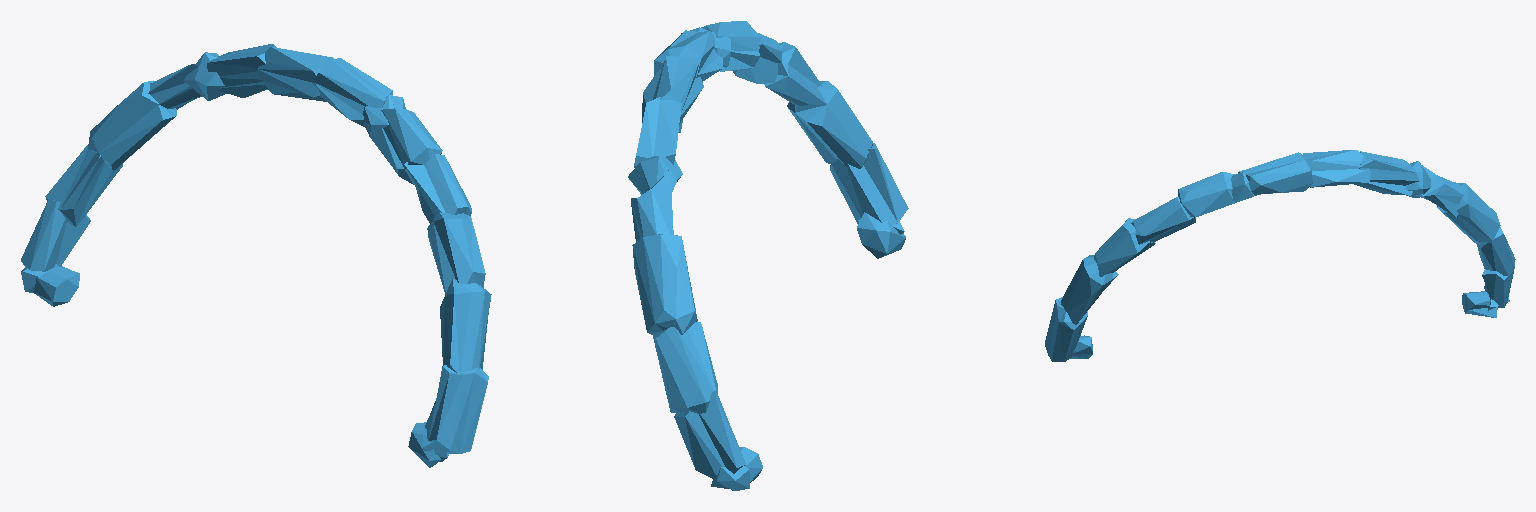
The robot description file, URDF, robot "partnet_u22e29c7a-cb17-4664-b846-1ace4d3964bd":
<?xml version="1.0" ?><robot name="partnet_u22e29c7a-cb17-4664-b846-1ace4d3964bd">
	<link name="base"/>
	<link name="link_0">
		<visual>
			<origin xyz="-0.013042530379285266 -0.6382607855926137 0.015433636023717919"/>
			<geometry>
				<mesh filename="new_objs/100484_link_0_6.obj"/>
			</geometry>
		</visual>
	<visual>
			<origin xyz="-0.013042530379285266 -0.6382607855926137 0.015433636023717919"/>
			<geometry>
				<mesh filename="new_objs/100484_link_0_5.obj"/>
			</geometry>
		</visual>
	<visual>
			<origin xyz="-0.013042530379285266 -0.6382607855926137 0.015433636023717919"/>
			<geometry>
				<mesh filename="new_objs/100484_link_0_13.obj"/>
			</geometry>
		</visual>
	<visual>
			<origin xyz="-0.013042530379285266 -0.6382607855926137 0.015433636023717919"/>
			<geometry>
				<mesh filename="new_objs/100484_link_0_11.obj"/>
			</geometry>
		</visual>
	<visual>
			<origin xyz="-0.013042530379285266 -0.6382607855926137 0.015433636023717919"/>
			<geometry>
				<mesh filename="new_objs/100484_link_0_0.obj"/>
			</geometry>
		</visual>
	<visual>
			<origin xyz="-0.013042530379285266 -0.6382607855926137 0.015433636023717919"/>
			<geometry>
				<mesh filename="new_objs/100484_link_0_1.obj"/>
			</geometry>
		</visual>
	<visual>
			<origin xyz="-0.013042530379285266 -0.6382607855926137 0.015433636023717919"/>
			<geometry>
				<mesh filename="new_objs/100484_link_0_7.obj"/>
			</geometry>
		</visual>
	<visual>
			<origin xyz="-0.013042530379285266 -0.6382607855926137 0.015433636023717919"/>
			<geometry>
				<mesh filename="new_objs/100484_link_0_17.obj"/>
			</geometry>
		</visual>
	<visual>
			<origin xyz="-0.013042530379285266 -0.6382607855926137 0.015433636023717919"/>
			<geometry>
				<mesh filename="new_objs/100484_link_0_12.obj"/>
			</geometry>
		</visual>
	<visual>
			<origin xyz="-0.013042530379285266 -0.6382607855926137 0.015433636023717919"/>
			<geometry>
				<mesh filename="new_objs/100484_link_0_4.obj"/>
			</geometry>
		</visual>
	<visual>
			<origin xyz="-0.013042530379285266 -0.6382607855926137 0.015433636023717919"/>
			<geometry>
				<mesh filename="new_objs/100484_link_0_3.obj"/>
			</geometry>
		</visual>
	<visual>
			<origin xyz="-0.013042530379285266 -0.6382607855926137 0.015433636023717919"/>
			<geometry>
				<mesh filename="new_objs/100484_link_0_14.obj"/>
			</geometry>
		</visual>
	<visual>
			<origin xyz="-0.013042530379285266 -0.6382607855926137 0.015433636023717919"/>
			<geometry>
				<mesh filename="new_objs/100484_link_0_2.obj"/>
			</geometry>
		</visual>
	<visual>
			<origin xyz="-0.013042530379285266 -0.6382607855926137 0.015433636023717919"/>
			<geometry>
				<mesh filename="new_objs/100484_link_0_10.obj"/>
			</geometry>
		</visual>
	<visual>
			<origin xyz="-0.013042530379285266 -0.6382607855926137 0.015433636023717919"/>
			<geometry>
				<mesh filename="new_objs/100484_link_0_16.obj"/>
			</geometry>
		</visual>
	<visual>
			<origin xyz="-0.013042530379285266 -0.6382607855926137 0.015433636023717919"/>
			<geometry>
				<mesh filename="new_objs/100484_link_0_8.obj"/>
			</geometry>
		</visual>
	<visual>
			<origin xyz="-0.013042530379285266 -0.6382607855926137 0.015433636023717919"/>
			<geometry>
				<mesh filename="new_objs/100484_link_0_15.obj"/>
			</geometry>
		</visual>
	<visual>
			<origin xyz="-0.013042530379285266 -0.6382607855926137 0.015433636023717919"/>
			<geometry>
				<mesh filename="new_objs/100484_link_0_9.obj"/>
			</geometry>
		</visual>
	
		<collision>
			<origin xyz="-0.013042530379285266 -0.6382607855926137 0.015433636023717919"/>
			<geometry>
				<mesh filename="new_objs/100484_link_0_6.obj"/>
			</geometry>
		</collision><collision>
			<origin xyz="-0.013042530379285266 -0.6382607855926137 0.015433636023717919"/>
			<geometry>
				<mesh filename="new_objs/100484_link_0_5.obj"/>
			</geometry>
		</collision><collision>
			<origin xyz="-0.013042530379285266 -0.6382607855926137 0.015433636023717919"/>
			<geometry>
				<mesh filename="new_objs/100484_link_0_13.obj"/>
			</geometry>
		</collision><collision>
			<origin xyz="-0.013042530379285266 -0.6382607855926137 0.015433636023717919"/>
			<geometry>
				<mesh filename="new_objs/100484_link_0_11.obj"/>
			</geometry>
		</collision><collision>
			<origin xyz="-0.013042530379285266 -0.6382607855926137 0.015433636023717919"/>
			<geometry>
				<mesh filename="new_objs/100484_link_0_0.obj"/>
			</geometry>
		</collision><collision>
			<origin xyz="-0.013042530379285266 -0.6382607855926137 0.015433636023717919"/>
			<geometry>
				<mesh filename="new_objs/100484_link_0_1.obj"/>
			</geometry>
		</collision><collision>
			<origin xyz="-0.013042530379285266 -0.6382607855926137 0.015433636023717919"/>
			<geometry>
				<mesh filename="new_objs/100484_link_0_7.obj"/>
			</geometry>
		</collision><collision>
			<origin xyz="-0.013042530379285266 -0.6382607855926137 0.015433636023717919"/>
			<geometry>
				<mesh filename="new_objs/100484_link_0_17.obj"/>
			</geometry>
		</collision><collision>
			<origin xyz="-0.013042530379285266 -0.6382607855926137 0.015433636023717919"/>
			<geometry>
				<mesh filename="new_objs/100484_link_0_12.obj"/>
			</geometry>
		</collision><collision>
			<origin xyz="-0.013042530379285266 -0.6382607855926137 0.015433636023717919"/>
			<geometry>
				<mesh filename="new_objs/100484_link_0_4.obj"/>
			</geometry>
		</collision><collision>
			<origin xyz="-0.013042530379285266 -0.6382607855926137 0.015433636023717919"/>
			<geometry>
				<mesh filename="new_objs/100484_link_0_3.obj"/>
			</geometry>
		</collision><collision>
			<origin xyz="-0.013042530379285266 -0.6382607855926137 0.015433636023717919"/>
			<geometry>
				<mesh filename="new_objs/100484_link_0_14.obj"/>
			</geometry>
		</collision><collision>
			<origin xyz="-0.013042530379285266 -0.6382607855926137 0.015433636023717919"/>
			<geometry>
				<mesh filename="new_objs/100484_link_0_2.obj"/>
			</geometry>
		</collision><collision>
			<origin xyz="-0.013042530379285266 -0.6382607855926137 0.015433636023717919"/>
			<geometry>
				<mesh filename="new_objs/100484_link_0_10.obj"/>
			</geometry>
		</collision><collision>
			<origin xyz="-0.013042530379285266 -0.6382607855926137 0.015433636023717919"/>
			<geometry>
				<mesh filename="new_objs/100484_link_0_16.obj"/>
			</geometry>
		</collision><collision>
			<origin xyz="-0.013042530379285266 -0.6382607855926137 0.015433636023717919"/>
			<geometry>
				<mesh filename="new_objs/100484_link_0_8.obj"/>
			</geometry>
		</collision><collision>
			<origin xyz="-0.013042530379285266 -0.6382607855926137 0.015433636023717919"/>
			<geometry>
				<mesh filename="new_objs/100484_link_0_15.obj"/>
			</geometry>
		</collision><collision>
			<origin xyz="-0.013042530379285266 -0.6382607855926137 0.015433636023717919"/>
			<geometry>
				<mesh filename="new_objs/100484_link_0_9.obj"/>
			</geometry>
		</collision></link>
	<joint name="joint_0" type="revolute">
		<origin xyz="0.013042530379285266 0.6382607855926137 -0.015433636023717919"/>
		<axis xyz="-1.0 -0.0 0.269"/>
		<child link="link_0"/>
		<parent link="link_1"/>
		<limit lower="0.812" upper="4.454778382790327"/>
	</joint>
	<link name="link_1">
		<collision>
			<origin xyz="0 0 0"/>
			<geometry>
				<mesh filename="new_objs/100484_link_1_6.obj"/>
			</geometry>
		</collision>
		<collision>
			<origin xyz="0 0 0"/>
			<geometry>
				<mesh filename="new_objs/100484_link_1_8.obj"/>
			</geometry>
		</collision>
		<collision>
			<origin xyz="0 0 0"/>
			<geometry>
				<mesh filename="new_objs/100484_link_1_23.obj"/>
			</geometry>
		</collision>
		<collision>
			<origin xyz="0 0 0"/>
			<geometry>
				<mesh filename="new_objs/100484_link_1_27.obj"/>
			</geometry>
		</collision>
		<collision>
			<origin xyz="0 0 0"/>
			<geometry>
				<mesh filename="new_objs/100484_link_1_0.obj"/>
			</geometry>
		</collision>
		<collision>
			<origin xyz="0 0 0"/>
			<geometry>
				<mesh filename="new_objs/100484_link_1_25.obj"/>
			</geometry>
		</collision>
		<collision>
			<origin xyz="0 0 0"/>
			<geometry>
				<mesh filename="new_objs/100484_link_1_7.obj"/>
			</geometry>
		</collision>
		<collision>
			<origin xyz="0 0 0"/>
			<geometry>
				<mesh filename="new_objs/100484_link_1_9.obj"/>
			</geometry>
		</collision>
		<collision>
			<origin xyz="0 0 0"/>
			<geometry>
				<mesh filename="new_objs/100484_link_1_10.obj"/>
			</geometry>
		</collision>
		<collision>
			<origin xyz="0 0 0"/>
			<geometry>
				<mesh filename="new_objs/100484_link_1_20.obj"/>
			</geometry>
		</collision>
		<collision>
			<origin xyz="0 0 0"/>
			<geometry>
				<mesh filename="new_objs/100484_link_1_16.obj"/>
			</geometry>
		</collision>
		<collision>
			<origin xyz="0 0 0"/>
			<geometry>
				<mesh filename="new_objs/100484_link_1_21.obj"/>
			</geometry>
		</collision>
		<collision>
			<origin xyz="0 0 0"/>
			<geometry>
				<mesh filename="new_objs/100484_link_1_26.obj"/>
			</geometry>
		</collision>
		<collision>
			<origin xyz="0 0 0"/>
			<geometry>
				<mesh filename="new_objs/100484_link_1_4.obj"/>
			</geometry>
		</collision>
		<collision>
			<origin xyz="0 0 0"/>
			<geometry>
				<mesh filename="new_objs/100484_link_1_2.obj"/>
			</geometry>
		</collision>
		<collision>
			<origin xyz="0 0 0"/>
			<geometry>
				<mesh filename="new_objs/100484_link_1_3.obj"/>
			</geometry>
		</collision>
		<collision>
			<origin xyz="0 0 0"/>
			<geometry>
				<mesh filename="new_objs/100484_link_1_28.obj"/>
			</geometry>
		</collision>
		<collision>
			<origin xyz="0 0 0"/>
			<geometry>
				<mesh filename="new_objs/100484_link_1_14.obj"/>
			</geometry>
		</collision>
		<collision>
			<origin xyz="0 0 0"/>
			<geometry>
				<mesh filename="new_objs/100484_link_1_17.obj"/>
			</geometry>
		</collision>
		<collision>
			<origin xyz="0 0 0"/>
			<geometry>
				<mesh filename="new_objs/100484_link_1_13.obj"/>
			</geometry>
		</collision>
		<collision>
			<origin xyz="0 0 0"/>
			<geometry>
				<mesh filename="new_objs/100484_link_1_24.obj"/>
			</geometry>
		</collision>
		<collision>
			<origin xyz="0 0 0"/>
			<geometry>
				<mesh filename="new_objs/100484_link_1_1.obj"/>
			</geometry>
		</collision>
		<collision>
			<origin xyz="0 0 0"/>
			<geometry>
				<mesh filename="new_objs/100484_link_1_12.obj"/>
			</geometry>
		</collision>
		<collision>
			<origin xyz="0 0 0"/>
			<geometry>
				<mesh filename="new_objs/100484_link_1_5.obj"/>
			</geometry>
		</collision>
		<collision>
			<origin xyz="0 0 0"/>
			<geometry>
				<mesh filename="new_objs/100484_link_1_15.obj"/>
			</geometry>
		</collision>
		<collision>
			<origin xyz="0 0 0"/>
			<geometry>
				<mesh filename="new_objs/100484_link_1_19.obj"/>
			</geometry>
		</collision>
		<collision>
			<origin xyz="0 0 0"/>
			<geometry>
				<mesh filename="new_objs/100484_link_1_11.obj"/>
			</geometry>
		</collision>
		<collision>
			<origin xyz="0 0 0"/>
			<geometry>
				<mesh filename="new_objs/100484_link_1_18.obj"/>
			</geometry>
		</collision>
		<collision>
			<origin xyz="0 0 0"/>
			<geometry>
				<mesh filename="new_objs/100484_link_1_22.obj"/>
			</geometry>
		</collision>
		<visual name="base_body-part[&quot;id]">
			<origin xyz="0 0 0"/>
			<geometry>
				<mesh filename="textured_objs/original-4.obj"/>
			</geometry>
		</visual>
		<visual name="base_body-part[&quot;id]">
			<origin xyz="0 0 0"/>
			<geometry>
				<mesh filename="textured_objs/original-3.obj"/>
			</geometry>
		</visual>
		<visual name="base_body-part[&quot;id]">
			<origin xyz="0 0 0"/>
			<geometry>
				<mesh filename="textured_objs/original-2.obj"/>
			</geometry>
		</visual>
		<visual name="base_body-part[&quot;id]">
			<origin xyz="0 0 0"/>
			<geometry>
				<mesh filename="textured_objs/original-5.obj"/>
			</geometry>
		</visual>
		<visual name="base_body-part[&quot;id]">
			<origin xyz="0 0 0"/>
			<geometry>
				<mesh filename="textured_objs/original-1.obj"/>
			</geometry>
		</visual>
		</link>
	<joint name="joint_1" type="fixed">
		<origin rpy="1.570796326794897 0 -1.570796326794897" xyz="0 0 0"/>
		<child link="link_1"/>
		<parent link="base"/>
	</joint>
</robot>

--- What the picture shows (computed from the rendered views, not written in the file) ---
3 views of the same robot in one strip: view 1: azimuth 30°, elevation 25°; view 2: azimuth 150°, elevation 25°; view 3: azimuth 270°, elevation 25° (orthographic).
Robot: partnet_u22e29c7a-cb17-4664-b846-1ace4d3964bd — 3 links, 2 joints (1 revolute, 1 fixed); root link base; default pose: all joints at 0 but 1 set to mid-range because 0 is outside their limits (joint_0 = 2.63).
Links seen in each view (by area): view 1: link_0; view 2: link_0; view 3: link_0.
Link boxes in pixels (x1,y1,x2,y2): link_0: (21,44,491,467); link_0: (628,21,908,490); link_0: (1045,150,1515,361).
Bounding box of the posed robot: 0.7186 × 1.63 × 0.8642 m (x, y, z).
18 mesh visuals loaded from 23 distinct referenced files (18 OBJ); not drawn: 5 (reference not matched to a file when rendering).
